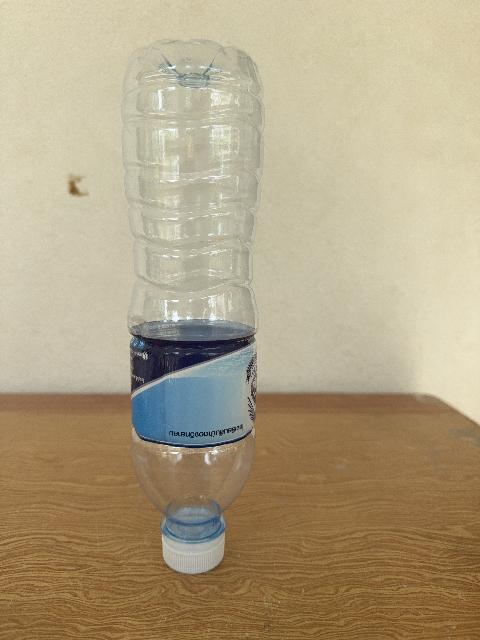bottle: (123, 41, 263, 573)
